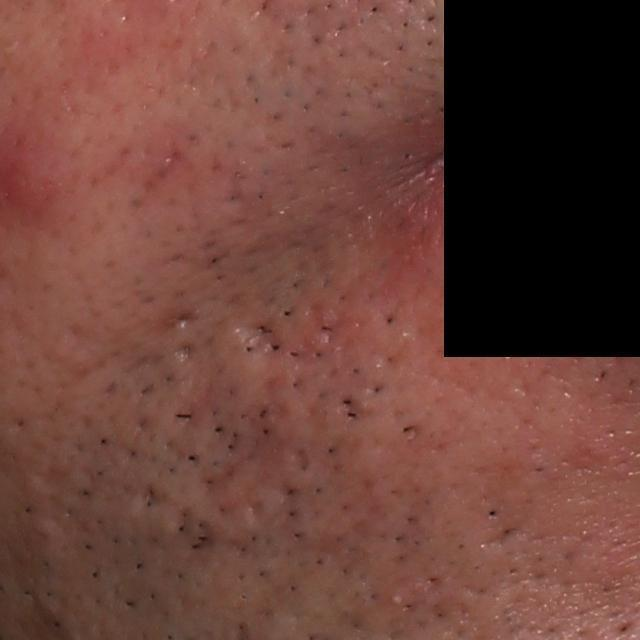atrophic_scar: (170, 341, 193, 363)
hypertrophic_scar: (204, 314, 279, 436)
